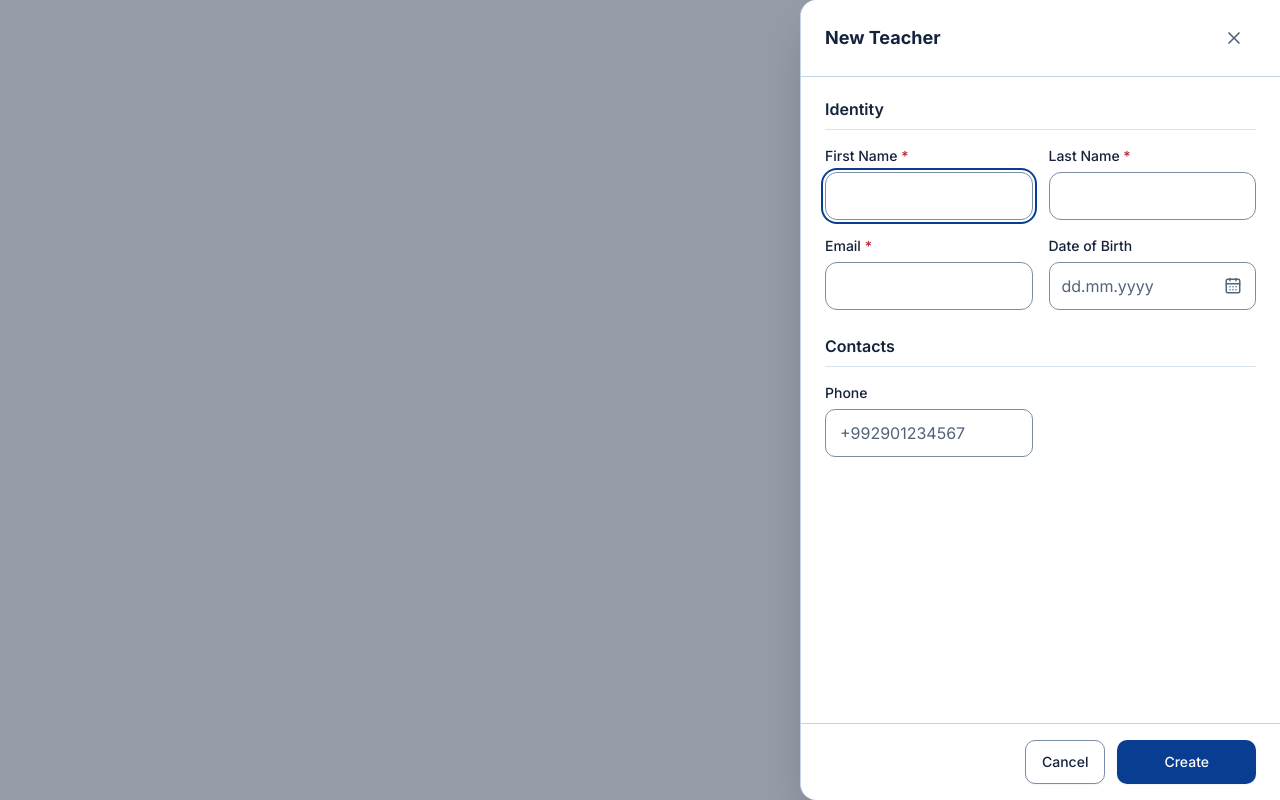
MentorFormPanel › keeps the email required and blocks a mentor created without one
Type "Dilshod" into the field labelled "First Name *".
click(929, 196); type("Dilshod")  # box [825,172,1032,220]
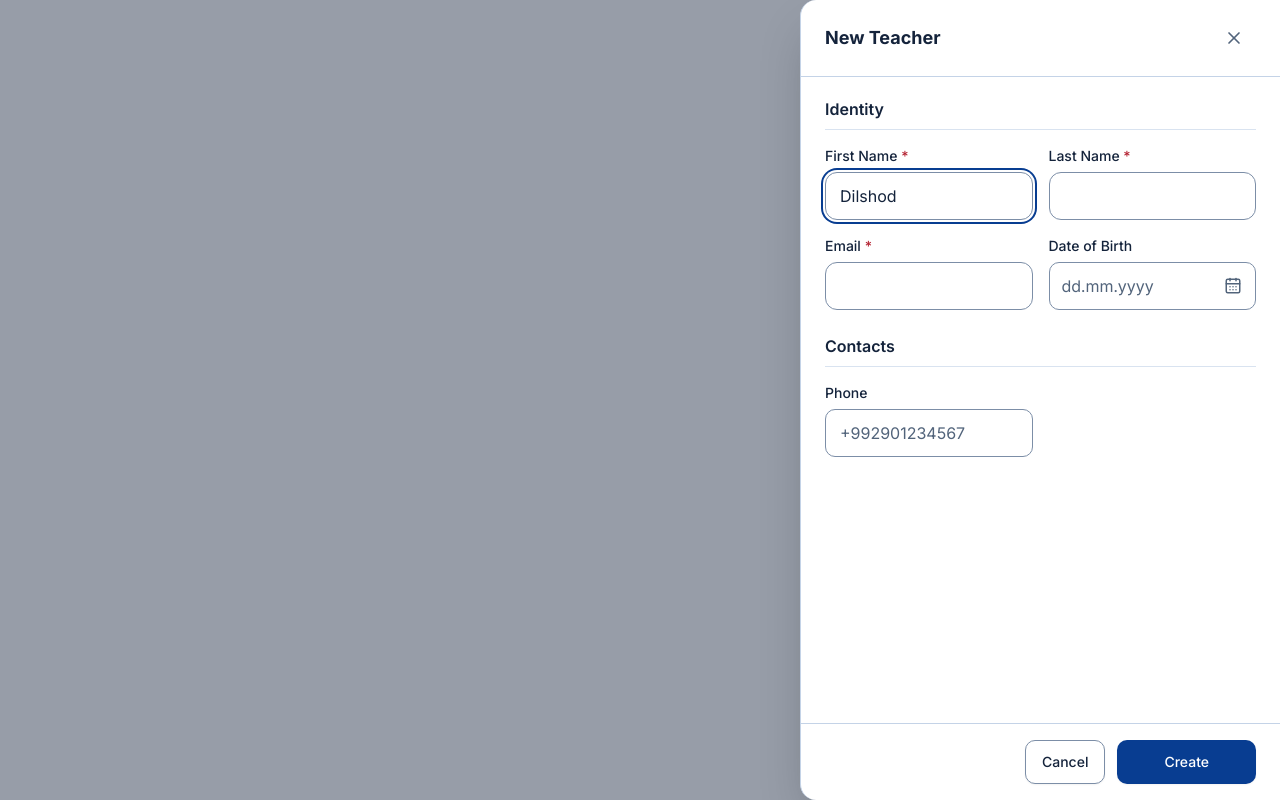
Type "Aliev" into the field labelled "Last Name *".
click(1152, 196); type("Aliev")  # box [1048,172,1256,220]
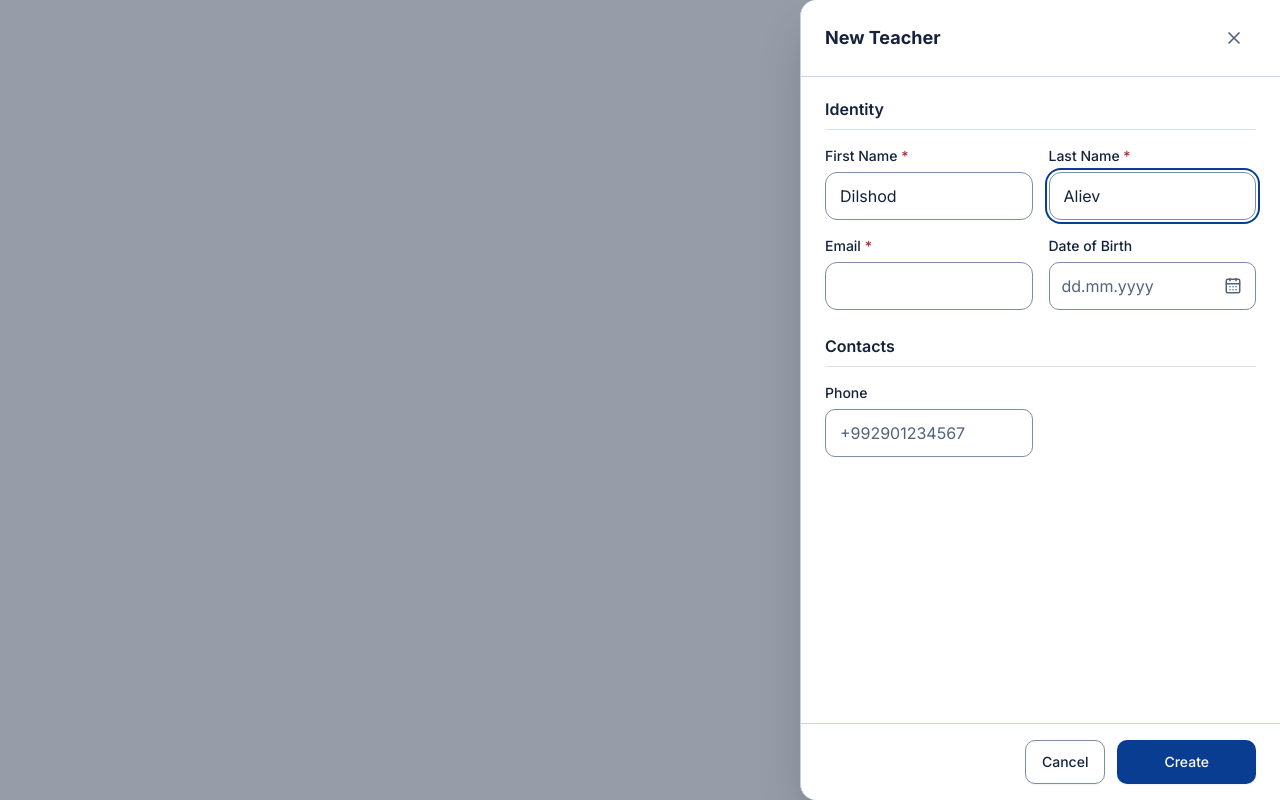
Click the button "Create".
click(1187, 762)  # box [1117,740,1256,784]
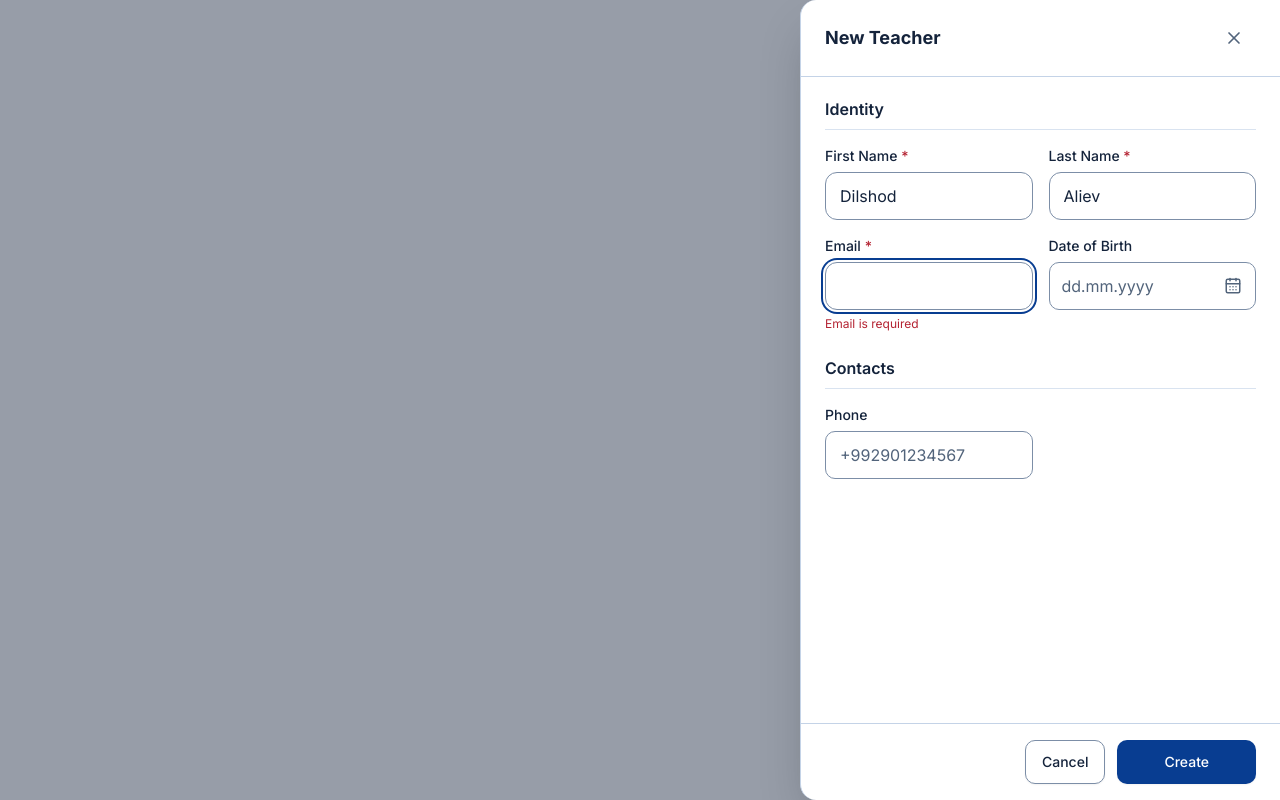
Expected: the text "Email is required" is shown, [825,316,919,331]
